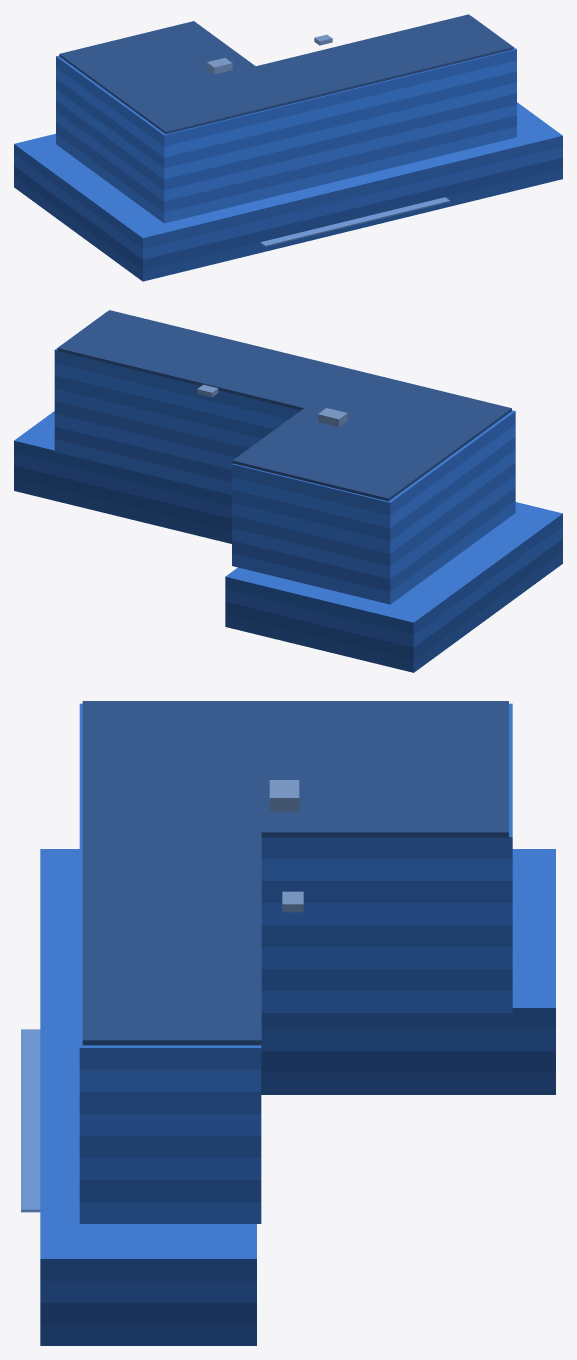
The picture shows the model from 3 angles, top to bottom: view 1: azimuth 30°, elevation 25°; view 2: azimuth 150°, elevation 25°; view 3: azimuth 270°, elevation 25°; orthographic projection. The views are drawn at different scales.
Visible parts, largest first — view 1: shell; view 2: shell; view 3: shell.
Part boxes in pixels (x1=…): shell: x1=14, y1=14, x2=562, y2=281; shell: x1=14, y1=310, x2=562, y2=672; shell: x1=21, y1=701, x2=555, y2=1345.
Size of the model in its own units: 160 by 51.2 by 88.2.
